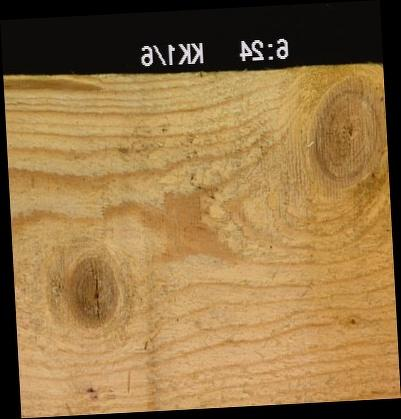small_knot: (346, 313, 359, 328)
sound_knot: (287, 63, 385, 197), (63, 249, 123, 333)
